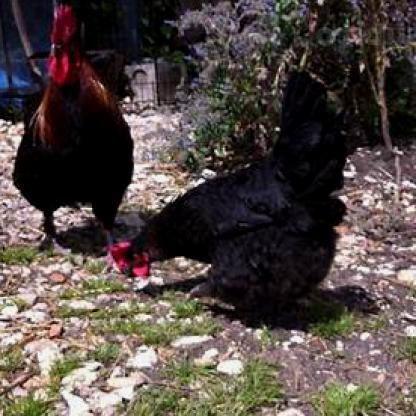chicken: (104, 67, 350, 328), (12, 3, 136, 259)
